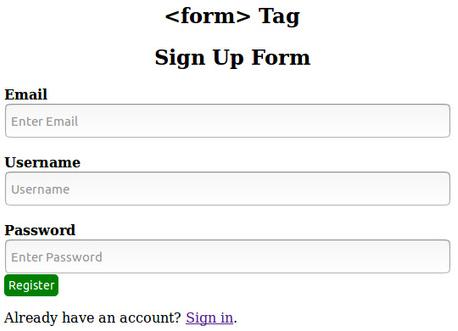button: (1, 272, 62, 299)
field: (4, 102, 451, 139), (2, 171, 452, 207), (3, 239, 451, 275)
